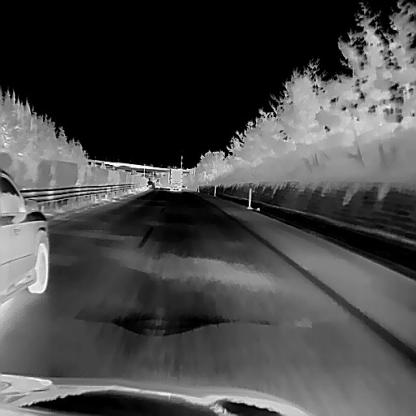car: (0, 168, 48, 302)
truck: (167, 167, 183, 190)
